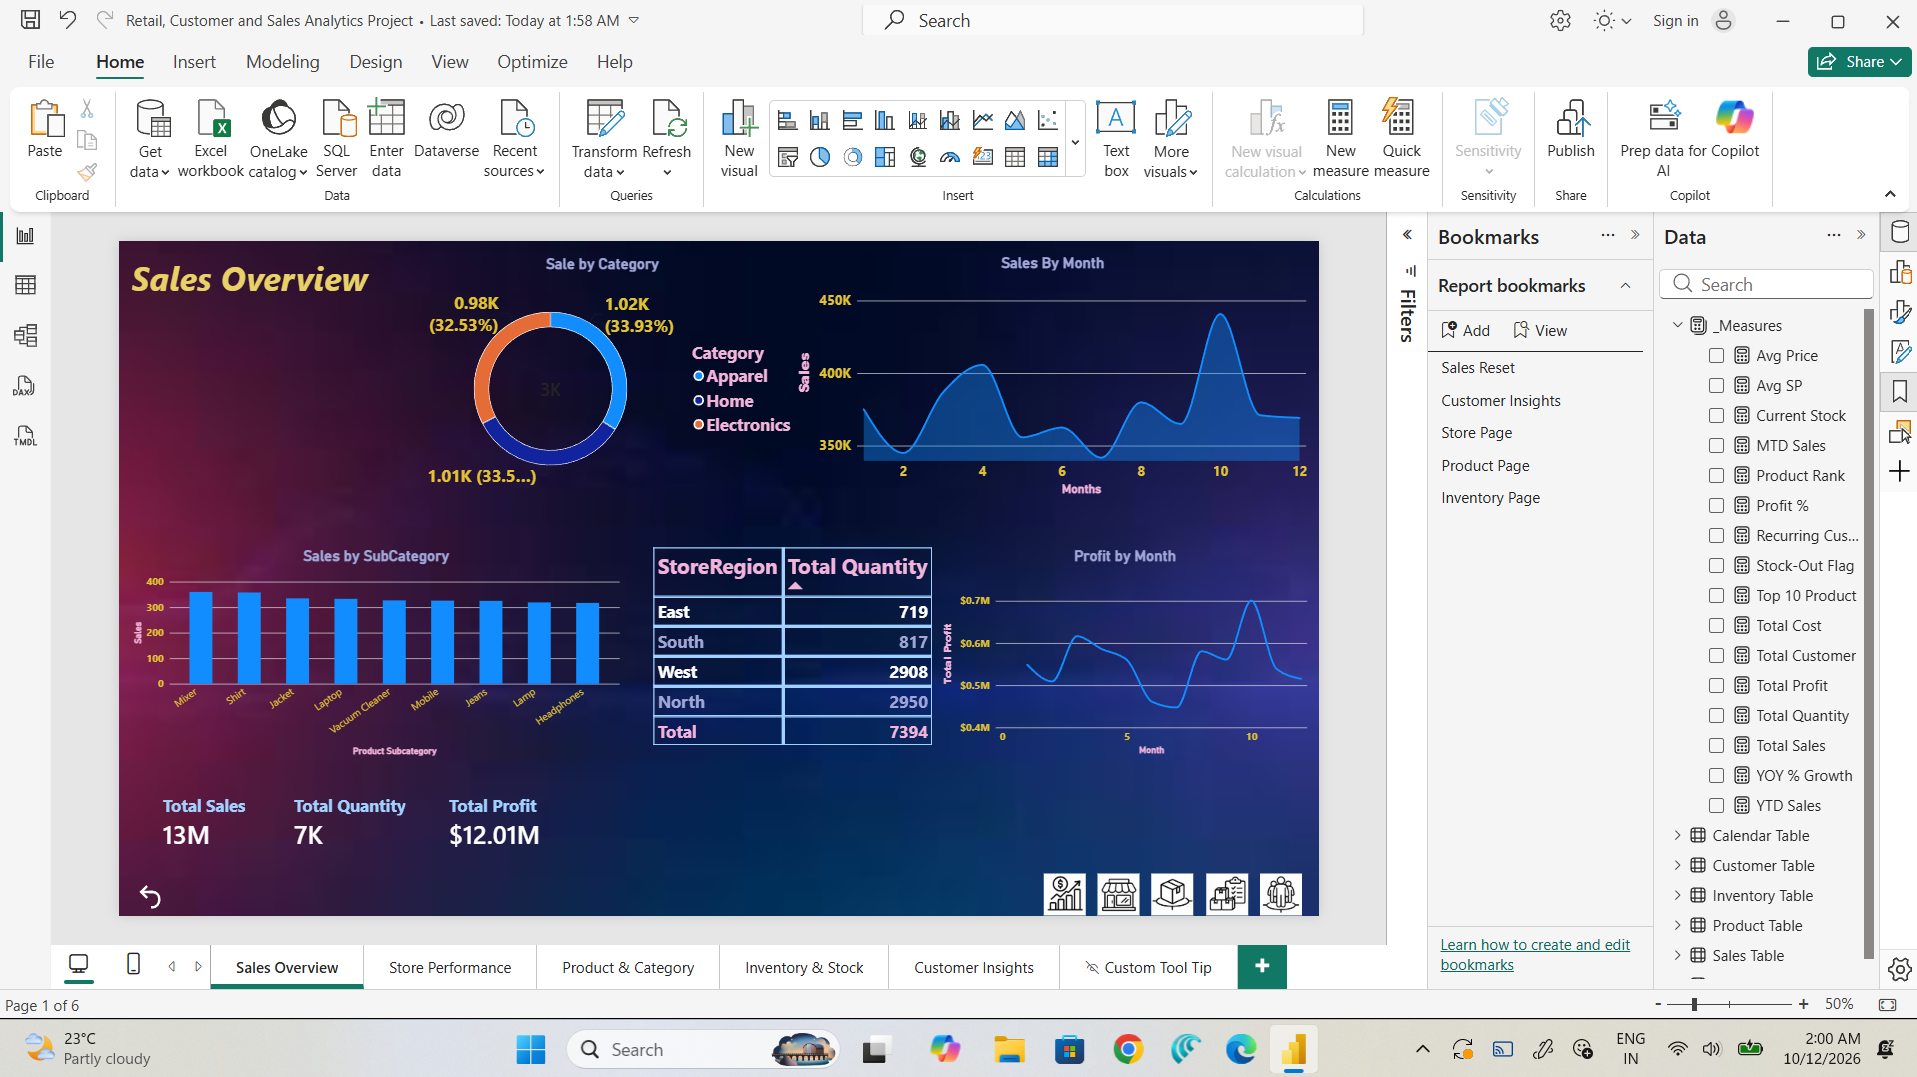

Layout of this report page (visuals, bound fields, positions):
{"tool":"powerbi","page":{"name":"Sales Overview","canvas":[1920,1080],"ordinal":0},"visuals":[{"type":"cardVisual","fields":{"Data":["_Measures.Total Sales"]},"box":[54.6,879.9,175.3,101.7],"z":0},{"type":"donutChart","title":"Sale by Category","fields":{"Category":["Product Table.Category"],"Y":["CountNonNull(Sales Table.SaleId)"]},"box":[463.1,21.6,618.9,385.2],"z":1000},{"type":"areaChart","title":"Sales By Month","fields":{"Category":["Calendar Table.Month"],"Y":["Sum(Sales Table.SaleId)"]},"box":[1086.4,19.5,815.9,387.4],"z":2000},{"type":"columnChart","title":"Sales by SubCategory","fields":{"Category":["Product Table.SubCategory"],"Y":["CountNonNull(Sales Table.SaleId)"]},"box":[21.6,489.1,779.1,333.3],"z":3000},{"type":"tableEx","fields":{"Values":["Store Table.StoreRegion","_Measures.Total Quantity"]},"box":[854.8,489.1,463.1,333.3],"z":4000},{"type":"textbox","box":[19.5,21.6,411.2,82.2],"z":5000},{"type":"cardVisual","fields":{"Data":["_Measures.Total Quantity"]},"box":[264.6,879.9,214.3,101.7],"z":6000},{"type":"cardVisual","fields":{"Data":["_Measures.Total Profit"]},"box":[511.3,879.9,179.6,101.7],"z":7000},{"type":"lineChart","title":"Profit by Month","fields":{"Category":["Calendar Table.Month"],"Y":["_Measures.Total Profit"]},"box":[1317.8,489.6,583.4,333.1],"z":8000},{"type":"actionButton","box":[21.6,1017.1,56.3,62.8],"z":8002},{"type":"image","box":[1815.7,1012.8,86.6,67.1],"z":8003},{"type":"image","box":[1729.1,1012.8,86.6,67.1],"z":8004},{"type":"image","box":[1642.6,1012.8,86.6,67.1],"z":8005},{"type":"image","box":[1556,1012.8,86.6,67.1],"z":8006},{"type":"image","box":[1469.5,1012.8,86.6,67.1],"z":8007}]}

Visuals, with their boxes on the page's 1920x1080 design canvas (x1, y1, x2, y2). These are canvas units, not pixel positions in the 1917x1077 screenshot, which may show the page scaled, cropped or inside an application window:
cardVisual - _Measures.Total Sales: <bbox>55, 880, 230, 982</bbox>
"Sale by Category" donutChart: <bbox>463, 22, 1082, 407</bbox>
"Sales By Month" areaChart: <bbox>1086, 20, 1902, 407</bbox>
"Sales by SubCategory" columnChart: <bbox>22, 489, 801, 822</bbox>
tableEx - Store Table.StoreRegion x _Measures.Total Quantity: <bbox>855, 489, 1318, 822</bbox>
textbox: <bbox>20, 22, 431, 104</bbox>
cardVisual - _Measures.Total Quantity: <bbox>265, 880, 479, 982</bbox>
cardVisual - _Measures.Total Profit: <bbox>511, 880, 691, 982</bbox>
"Profit by Month" lineChart: <bbox>1318, 490, 1901, 823</bbox>
actionButton: <bbox>22, 1017, 78, 1080</bbox>
image: <bbox>1816, 1013, 1902, 1080</bbox>
image: <bbox>1729, 1013, 1816, 1080</bbox>
image: <bbox>1643, 1013, 1729, 1080</bbox>
image: <bbox>1556, 1013, 1643, 1080</bbox>
image: <bbox>1470, 1013, 1556, 1080</bbox>
